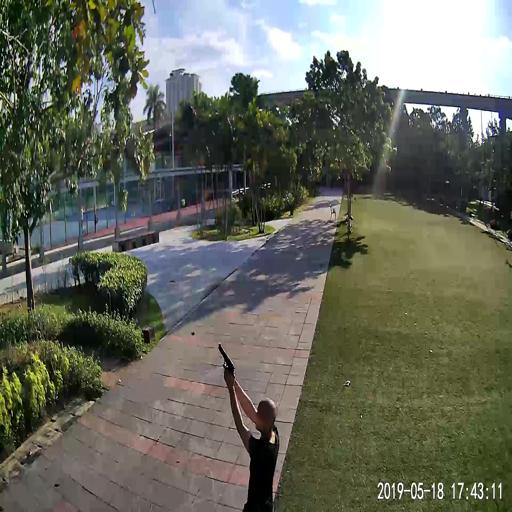pistol: (217, 341, 234, 374)
